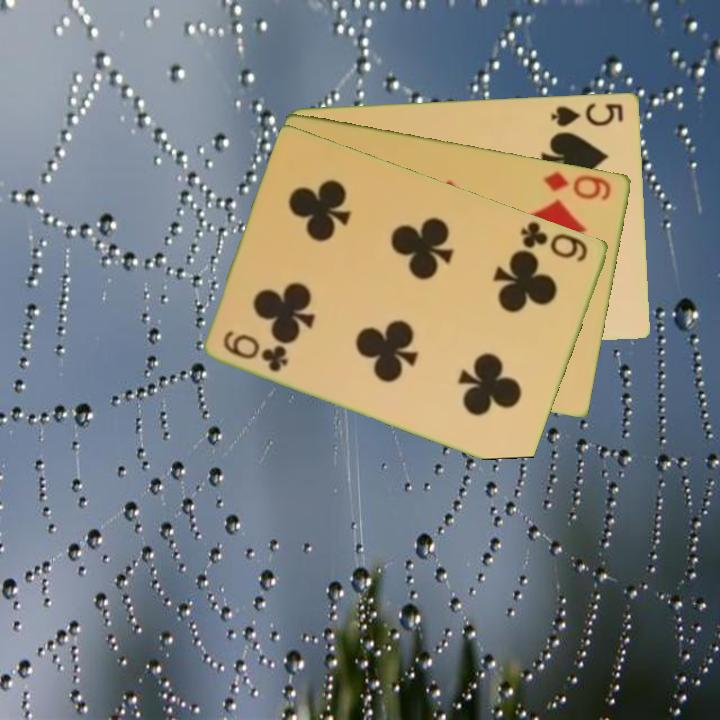5s: (548, 99, 627, 129)
6c: (517, 217, 591, 265), (220, 327, 292, 375)
6d: (540, 167, 615, 203)
